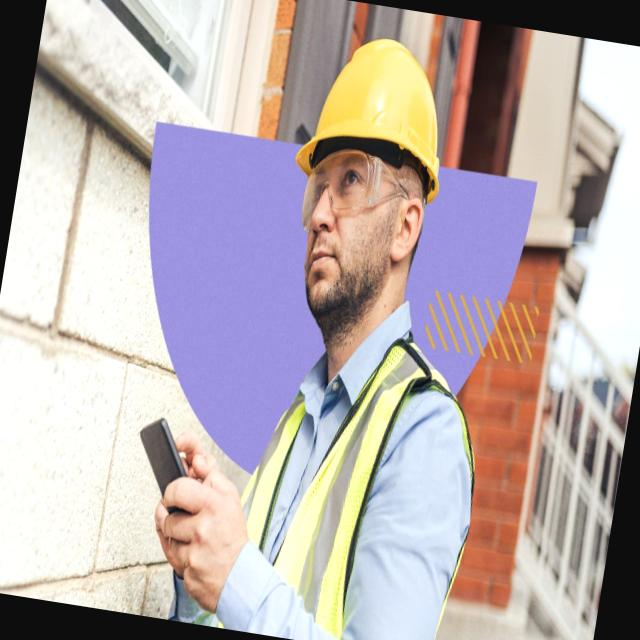goggles: (296, 140, 436, 253)
helmet: (290, 23, 464, 206)
vest: (210, 314, 499, 640)
